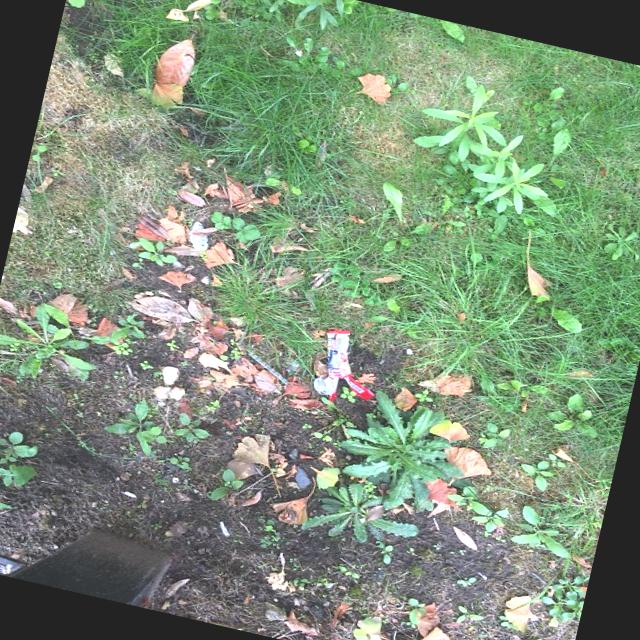Trash: (310, 326, 389, 412)
